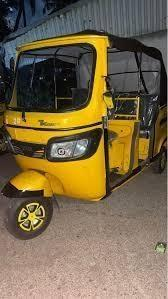keke: (0, 28, 168, 240)
